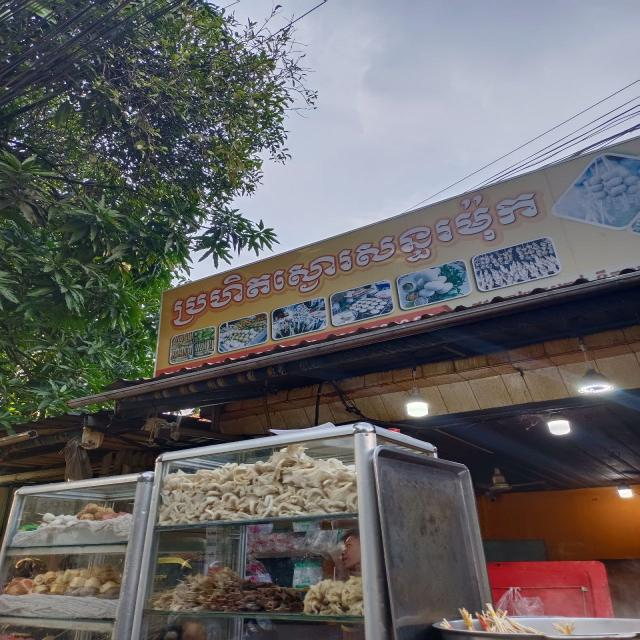Yolov11kh: (165, 173, 551, 337)
